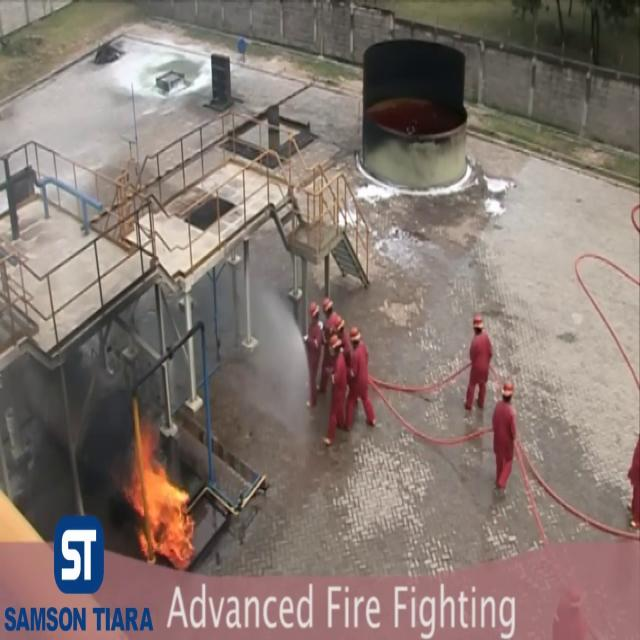Fire: (124, 392, 194, 566)
